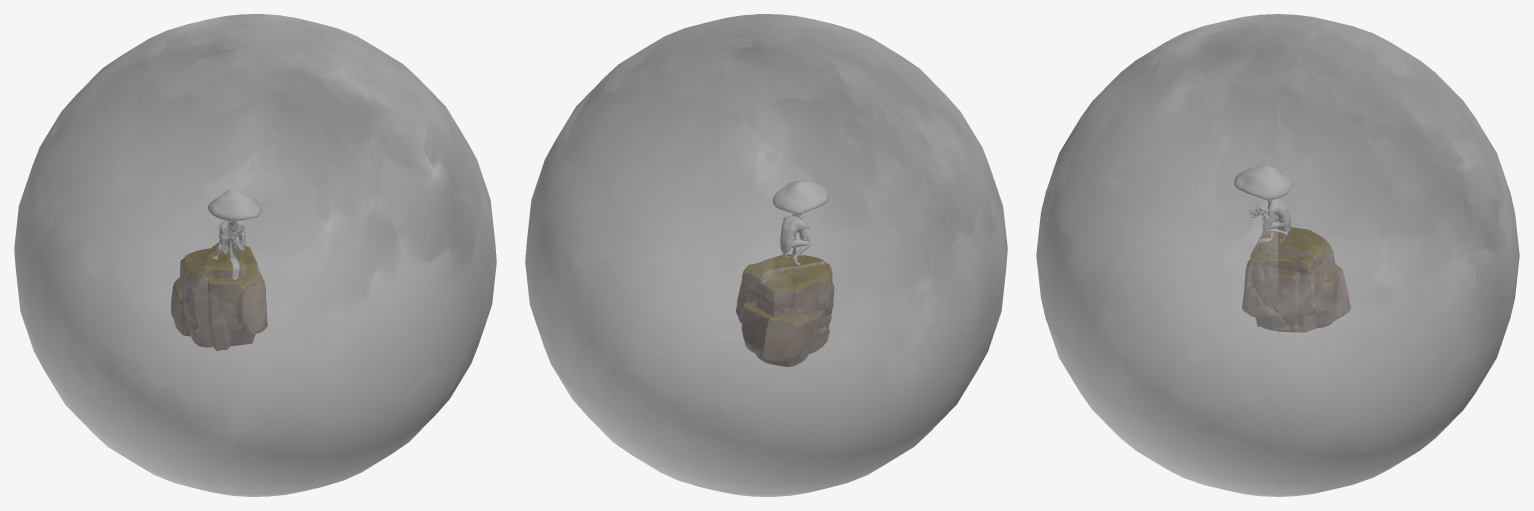
3 renders of one model, left to right at view 1: azimuth 30°, elevation 25°; view 2: azimuth 150°, elevation 25°; view 3: azimuth 270°, elevation 25°, orthographic.
Parts seen in each view (by area): view 1: fog, Rock_low, hood_low _hood_low.002_0, cloth_low; view 2: fog, Rock_low, hood_low _hood_low.002_0, cloth_low; view 3: fog, Rock_low, hood_low _hood_low.002_0, cloth_low.
Boxes of the visible parts, x1,y1,x2,y2 form: fog: (14,14,496,496); Rock_low: (171,243,267,350); hood_low _hood_low.002_0: (208,189,261,226); cloth_low: (219,220,245,279); fog: (525,14,1007,496); Rock_low: (736,254,834,366); hood_low _hood_low.002_0: (772,180,828,216); cloth_low: (780,215,809,255); fog: (1036,14,1519,496); Rock_low: (1242,227,1350,332); hood_low _hood_low.002_0: (1234,165,1292,202); cloth_low: (1257,198,1290,248).
Size of the model in its own units: 24.34 by 24.34 by 24.34.
